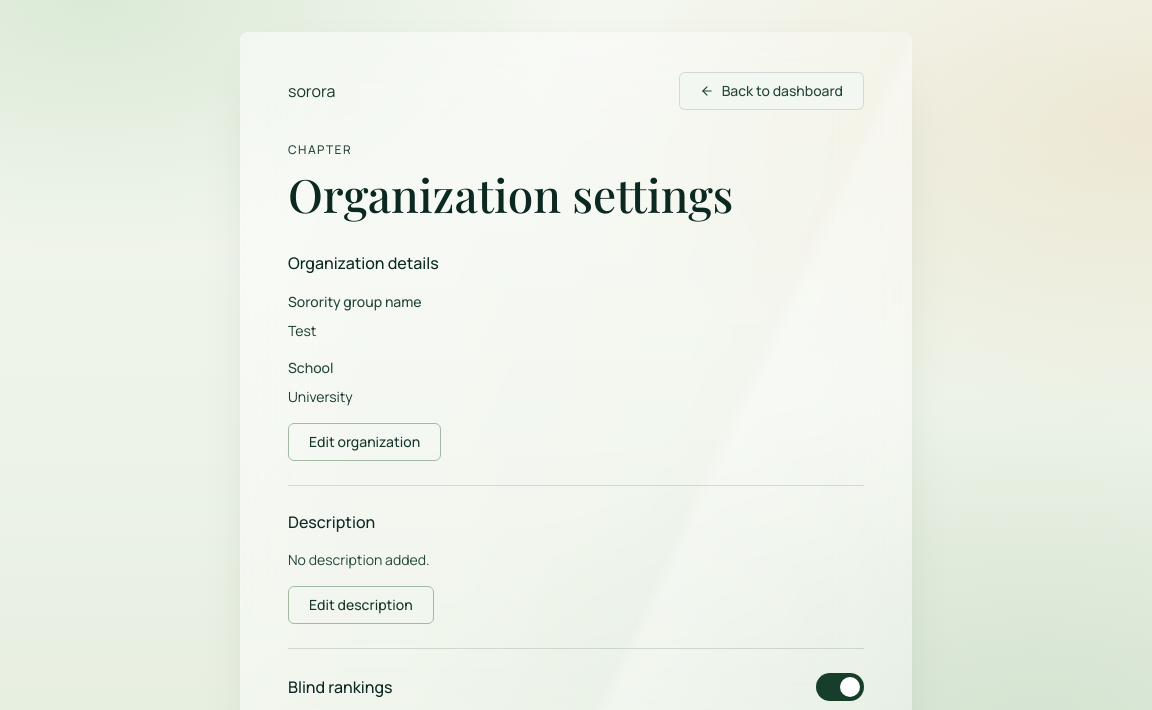
Test case: failed privacy saves retain the draft for retry
Click the switch named "Blind rankings" at {"x": 840, "y": 687}, box 816,673 -> 864,701
(page scrolled)
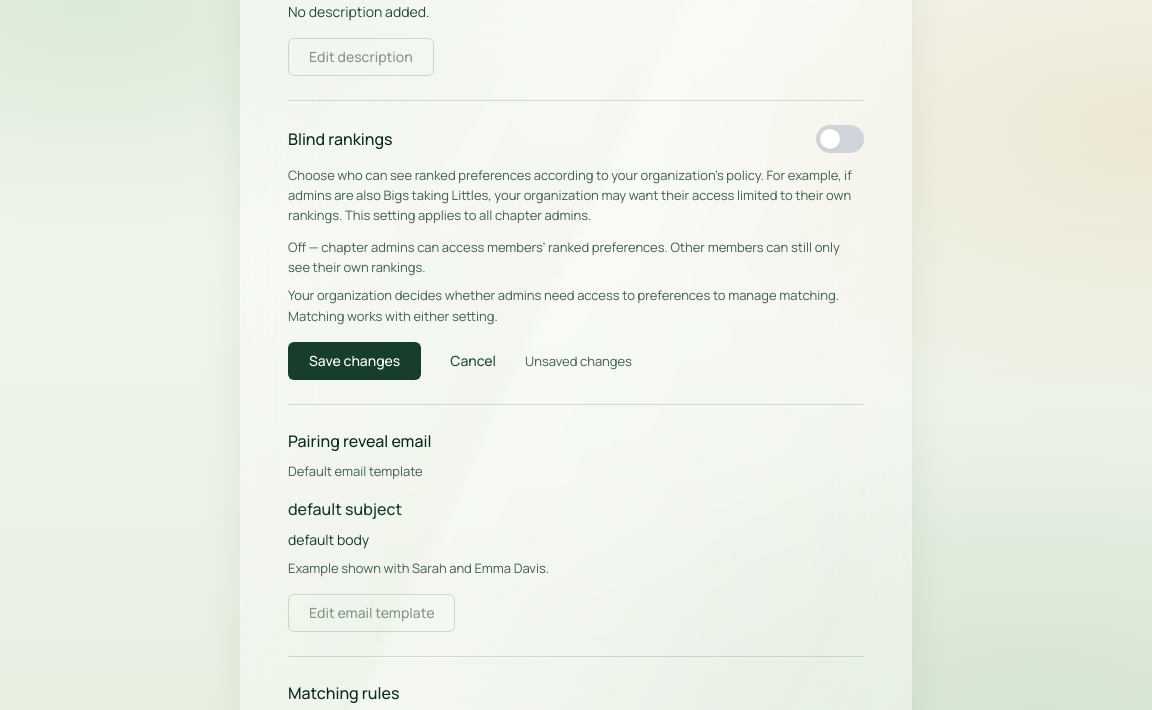
Click the button "Save changes" at {"x": 355, "y": 361}, box 288,342 -> 421,380
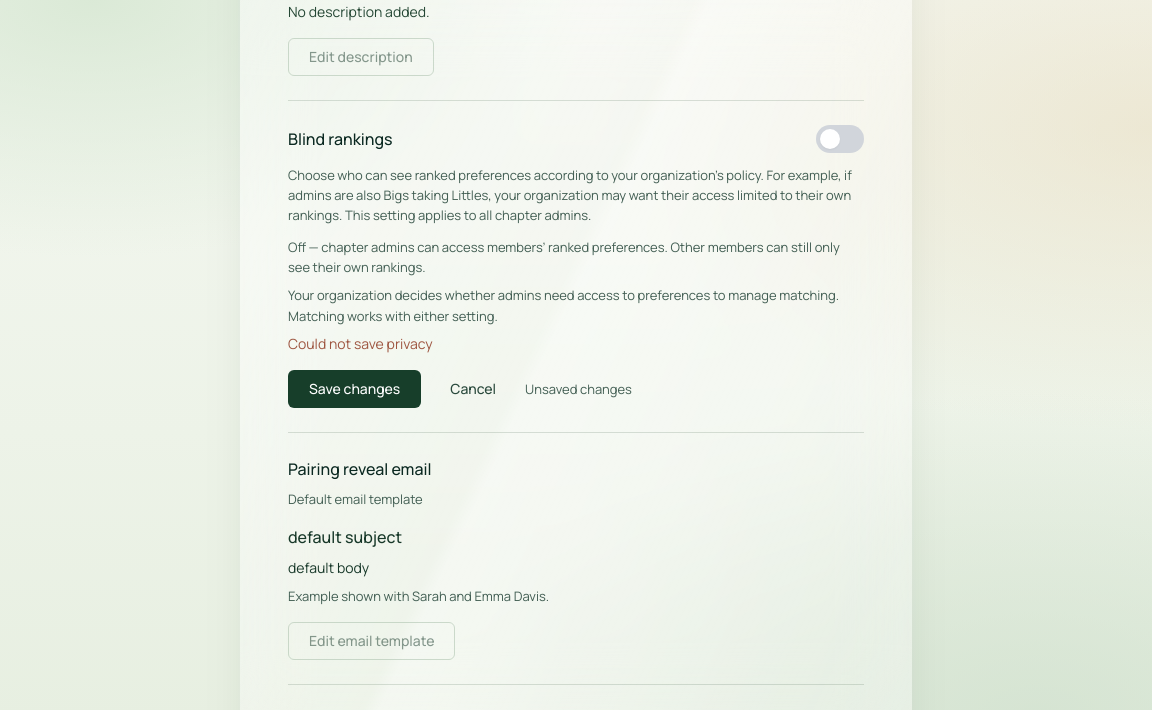
Check: the button "Save changes" is enabled, box 288,370 -> 421,408
Check: the message "Could not save privacy" is shown, box 288,334 -> 432,353
